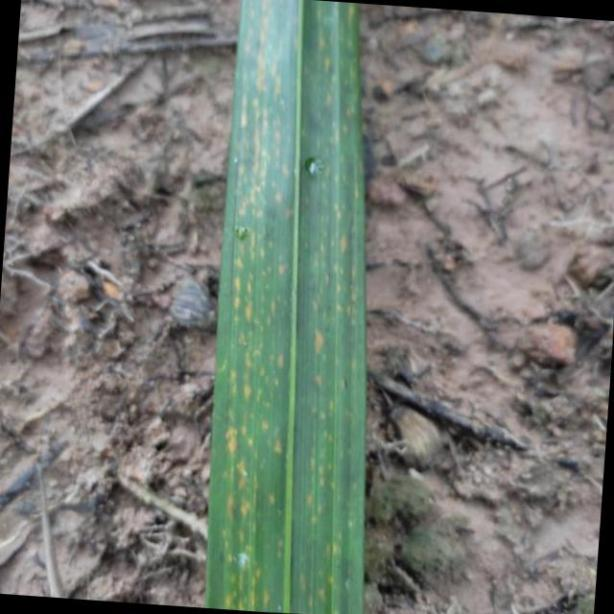Kalium: (208, 0, 374, 614)
